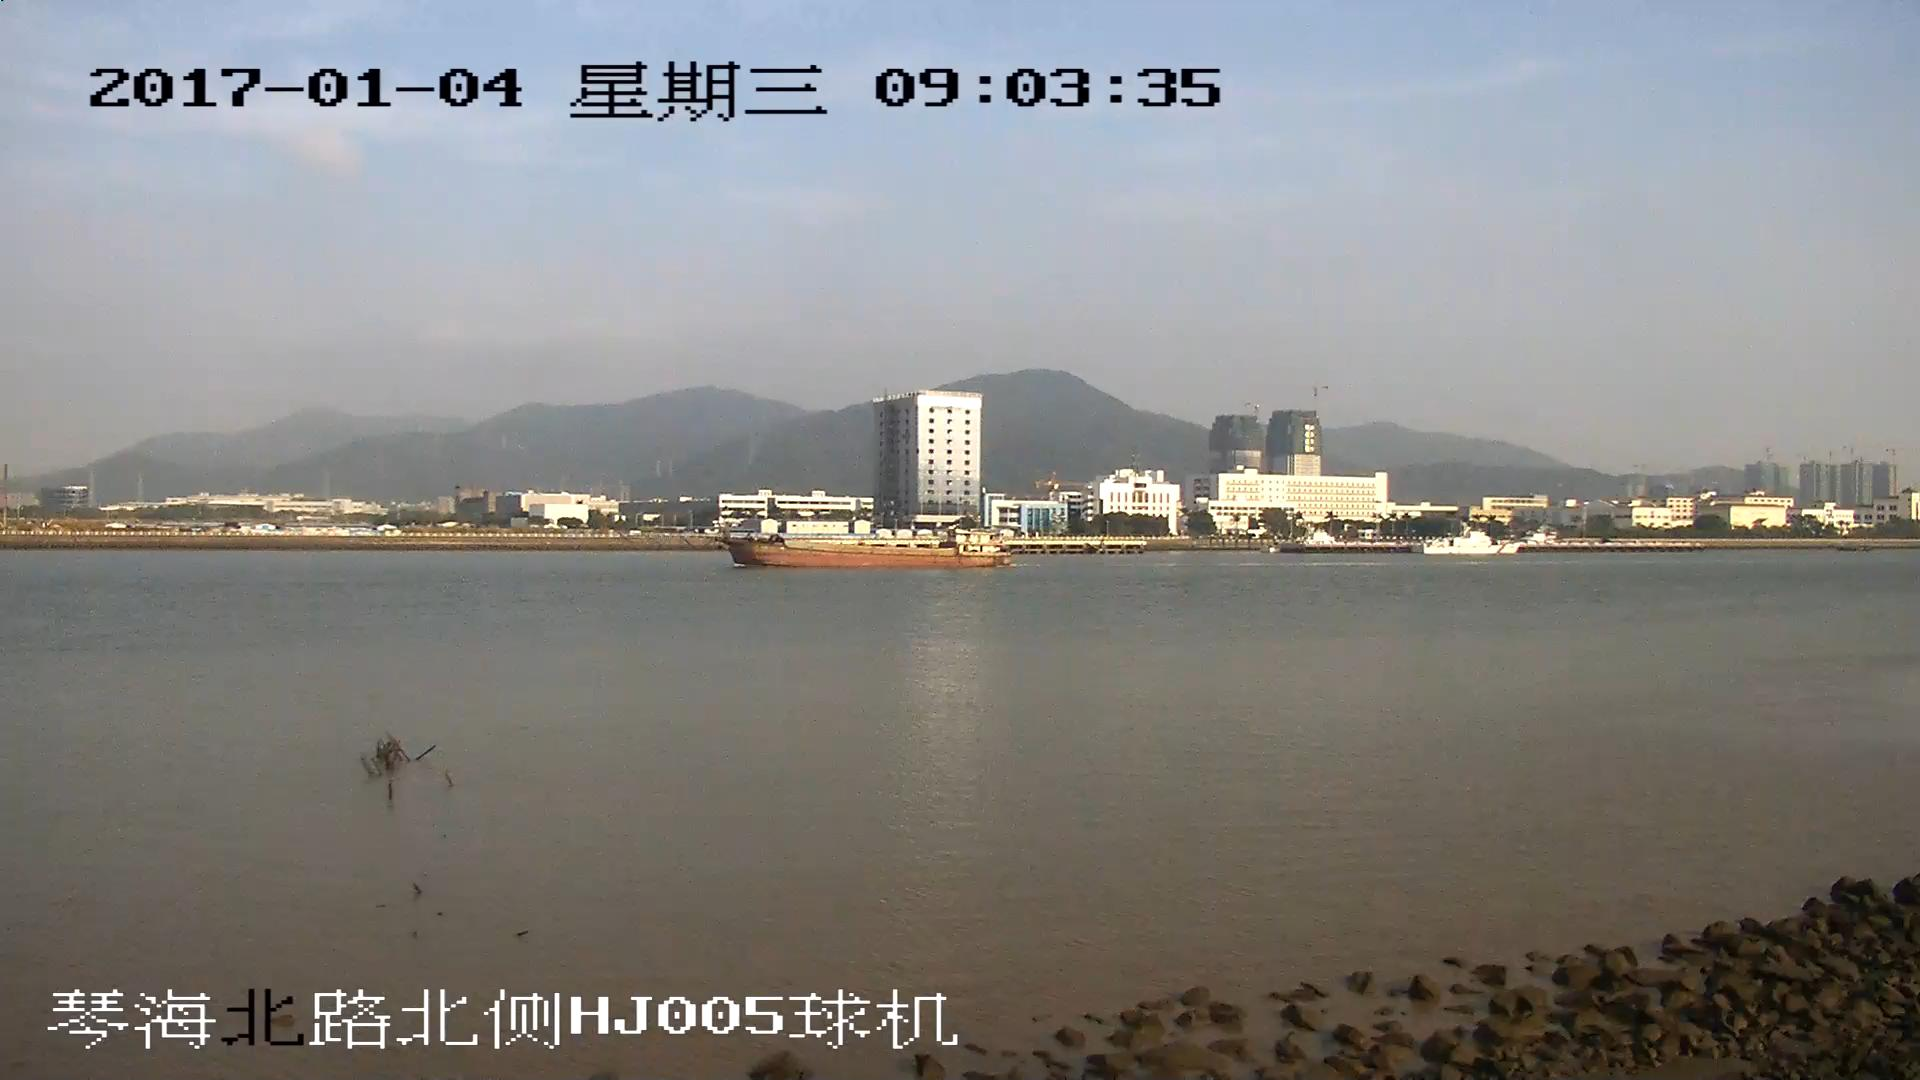bulk cargo carrier: (727, 528, 1011, 570)
